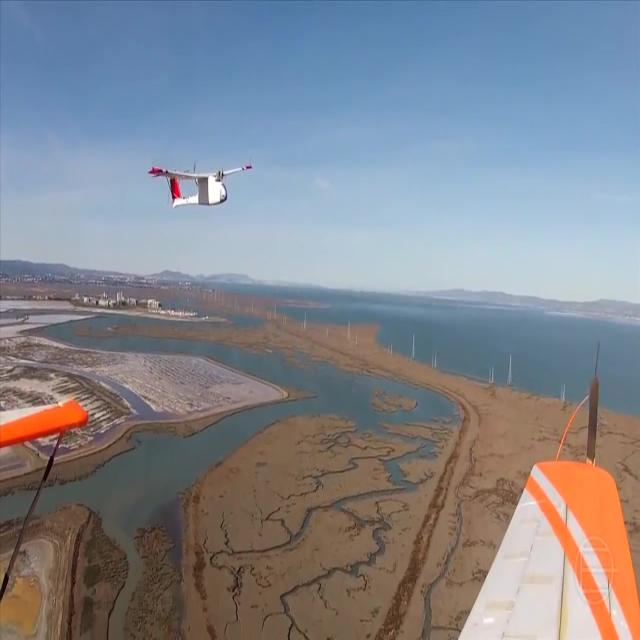iha: (173, 162, 215, 209)
